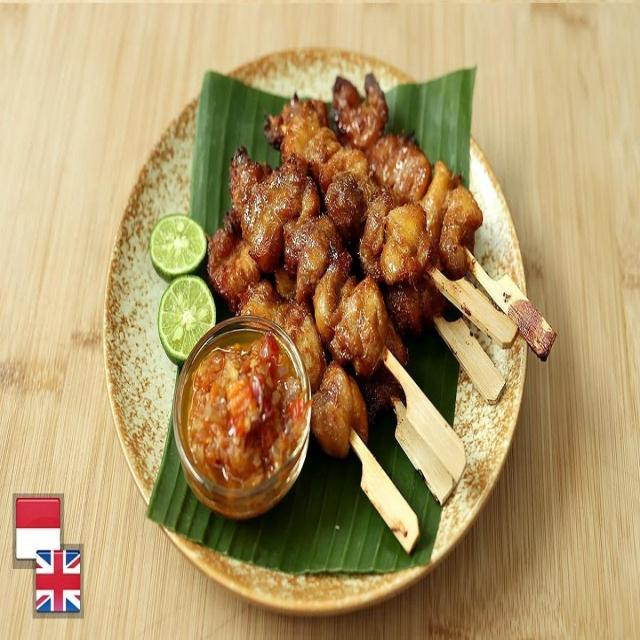Sate: (197, 95, 538, 521)
